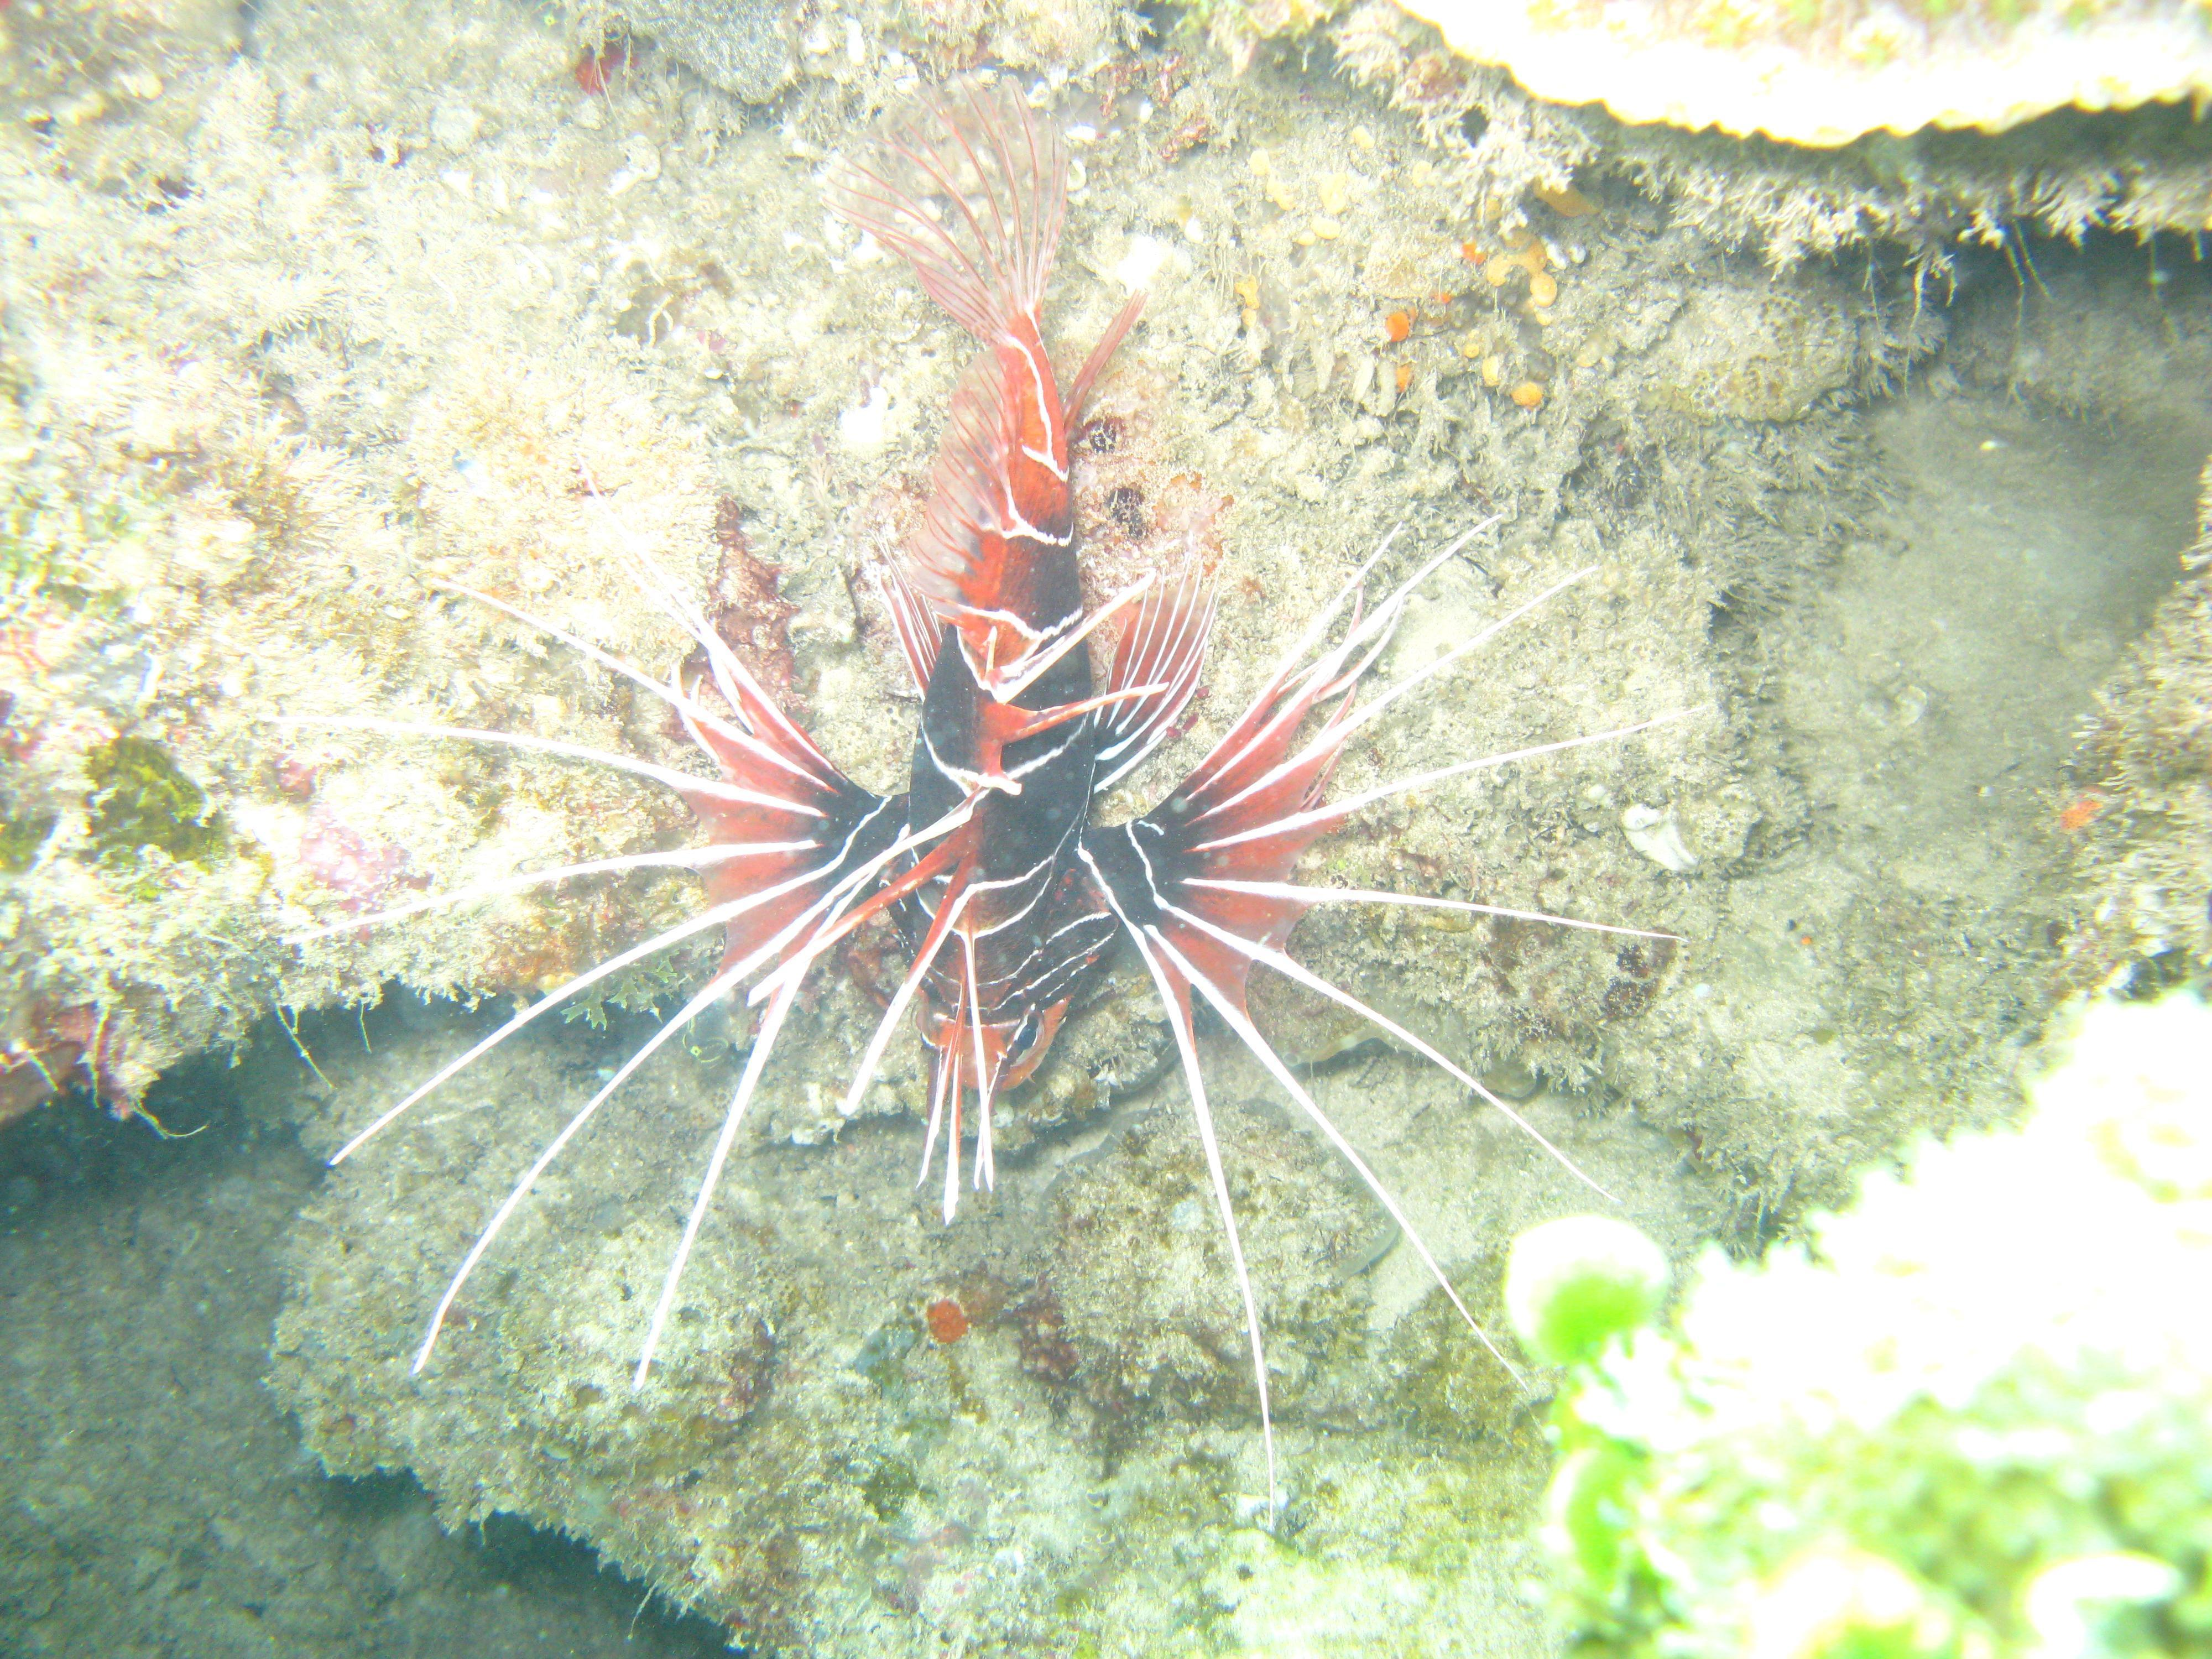Fish: (301, 70, 1737, 1438)
